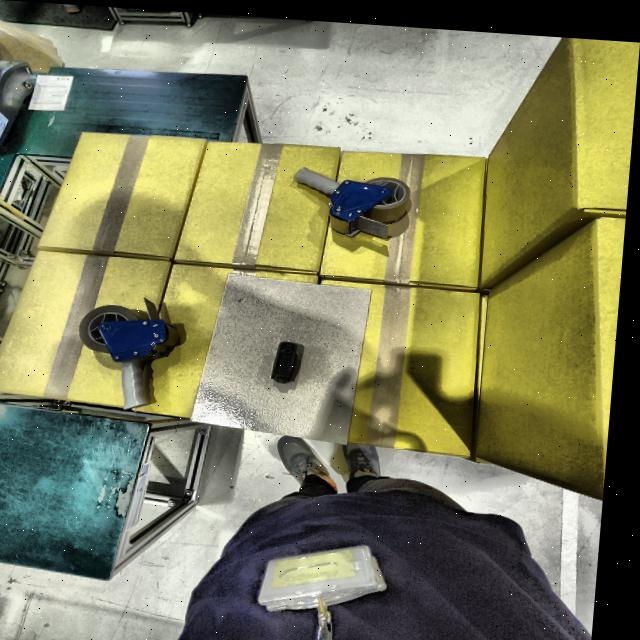P38: (278, 337, 303, 379)
